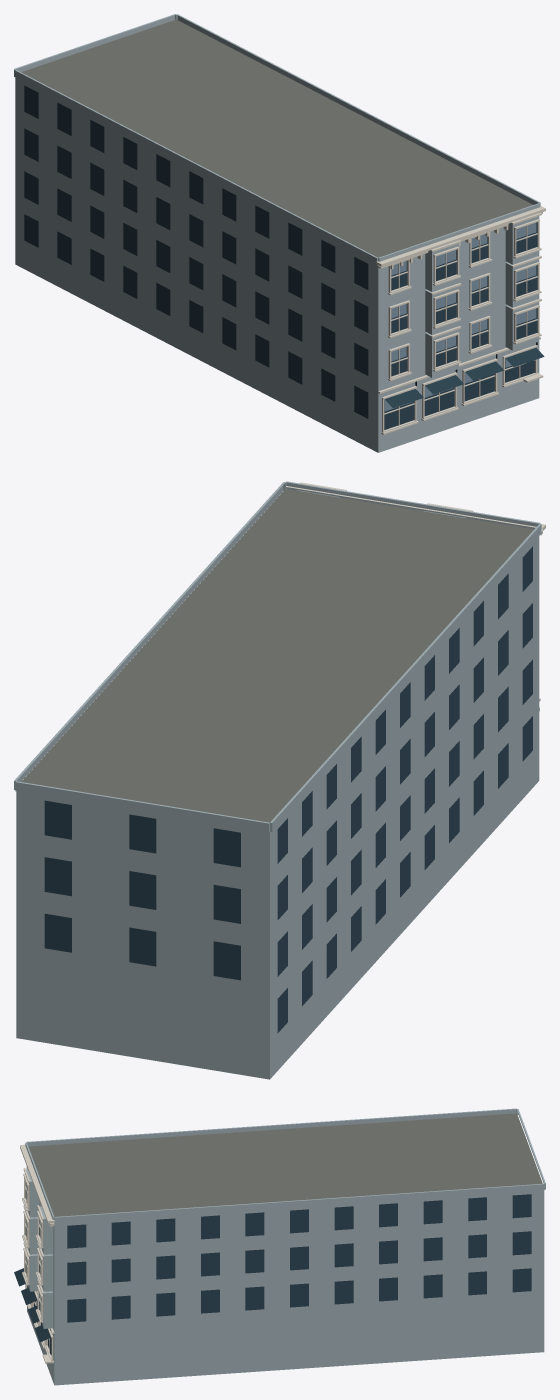
3 renders of one model, top to bottom at view 1: azimuth 30°, elevation 25°; view 2: azimuth 150°, elevation 25°; view 3: azimuth 270°, elevation 25°, orthographic. The views are drawn at different scales.
Parts seen in each view (by area): view 1: Footprint 0 / surface 2, Footprint 0 / surface 1, Inset glazing, Facade bay volumes, Cornices and window frames, Sky reflection panels, Storefronts and doors; view 2: Footprint 0 / surface 2, Footprint 0 / surface 1, Inset glazing, Facade bay volumes; view 3: Footprint 0 / surface 2, Footprint 0 / surface 1, Inset glazing, Facade bay volumes, Cornices and window frames, Storefronts and doors.
Boxes of the visible parts, left/top/right/bottom form: Footprint 0 / surface 2: left=15, top=77, right=539, bottom=452; Footprint 0 / surface 1: left=21, top=19, right=532, bottom=257; Inset glazing: left=24, top=85, right=537, bottom=429; Facade bay volumes: left=14, top=14, right=540, bottom=377; Cornices and window frames: left=376, top=206, right=545, bottom=434; Sky reflection panels: left=384, top=222, right=536, bottom=411; Storefronts and doors: left=385, top=342, right=544, bottom=408; Footprint 0 / surface 2: left=16, top=536, right=539, bottom=1079; Footprint 0 / surface 1: left=21, top=489, right=533, bottom=822; Inset glazing: left=44, top=546, right=532, bottom=1033; Facade bay volumes: left=14, top=481, right=541, bottom=832; Footprint 0 / surface 2: left=27, top=1190, right=544, bottom=1385; Footprint 0 / surface 1: left=28, top=1113, right=542, bottom=1216; Inset glazing: left=25, top=1186, right=531, bottom=1355; Facade bay volumes: left=25, top=1108, right=545, bottom=1328; Cornices and window frames: left=20, top=1144, right=54, bottom=1363; Storefronts and doors: left=14, top=1268, right=50, bottom=1354.
Bounding box in the file's own units: 19.62 × 14.05 × 40.19.
